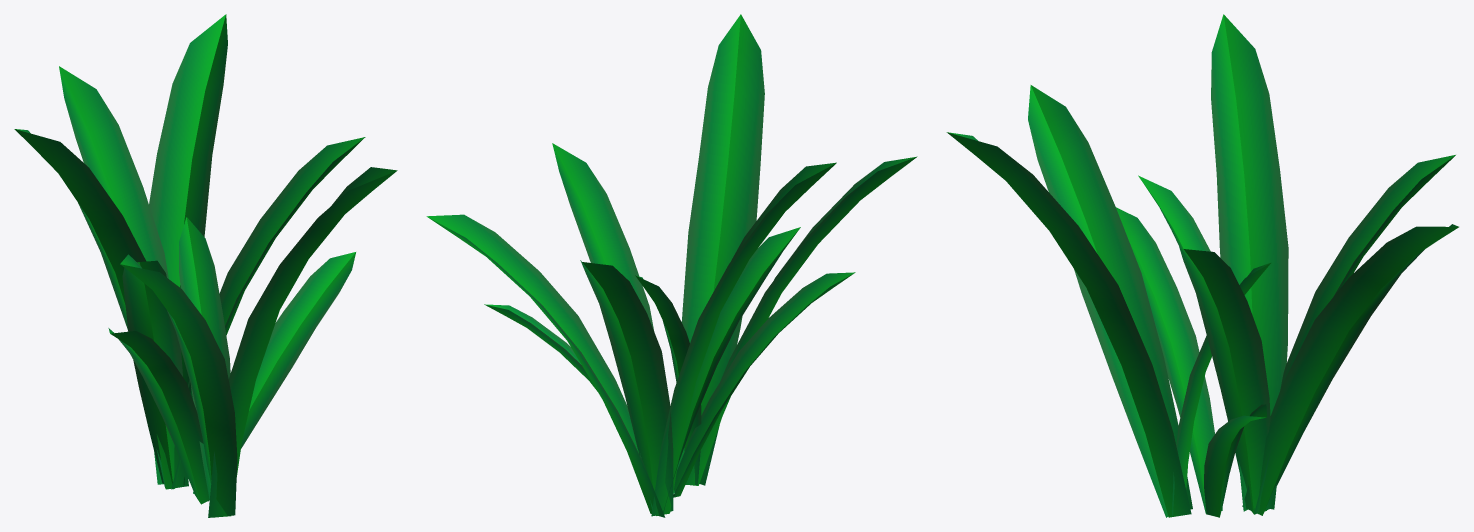
Rendered from grass.fbx.
The picture shows the model from 3 angles, left to right: view 1: azimuth 30°, elevation 25°; view 2: azimuth 150°, elevation 25°; view 3: azimuth 270°, elevation 25°; orthographic projection. The views are drawn at different scales.
Visible parts, largest first — view 1: grass; view 2: grass; view 3: grass.
Boxes of the visible parts, x1,y1,x2,y2 form: grass: [14, 14, 397, 517]; grass: [426, 14, 917, 517]; grass: [946, 14, 1458, 517].
Size of the model in its own units: 127 by 138 by 156.
